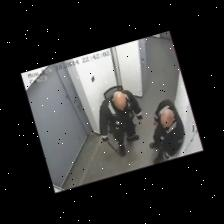person: (99, 90, 142, 156), (150, 99, 184, 163)
